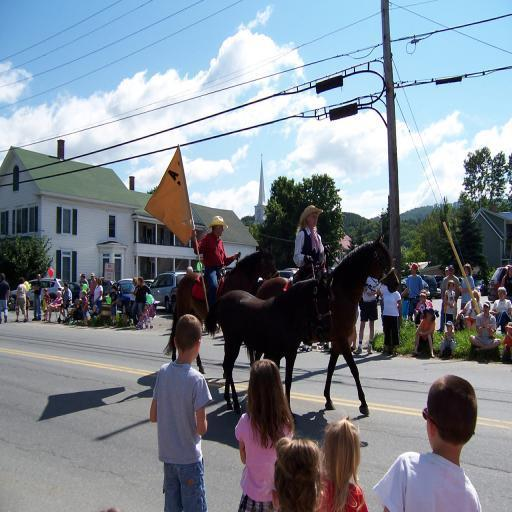horse: (242, 230, 400, 418), (206, 277, 334, 424), (162, 244, 282, 376)
